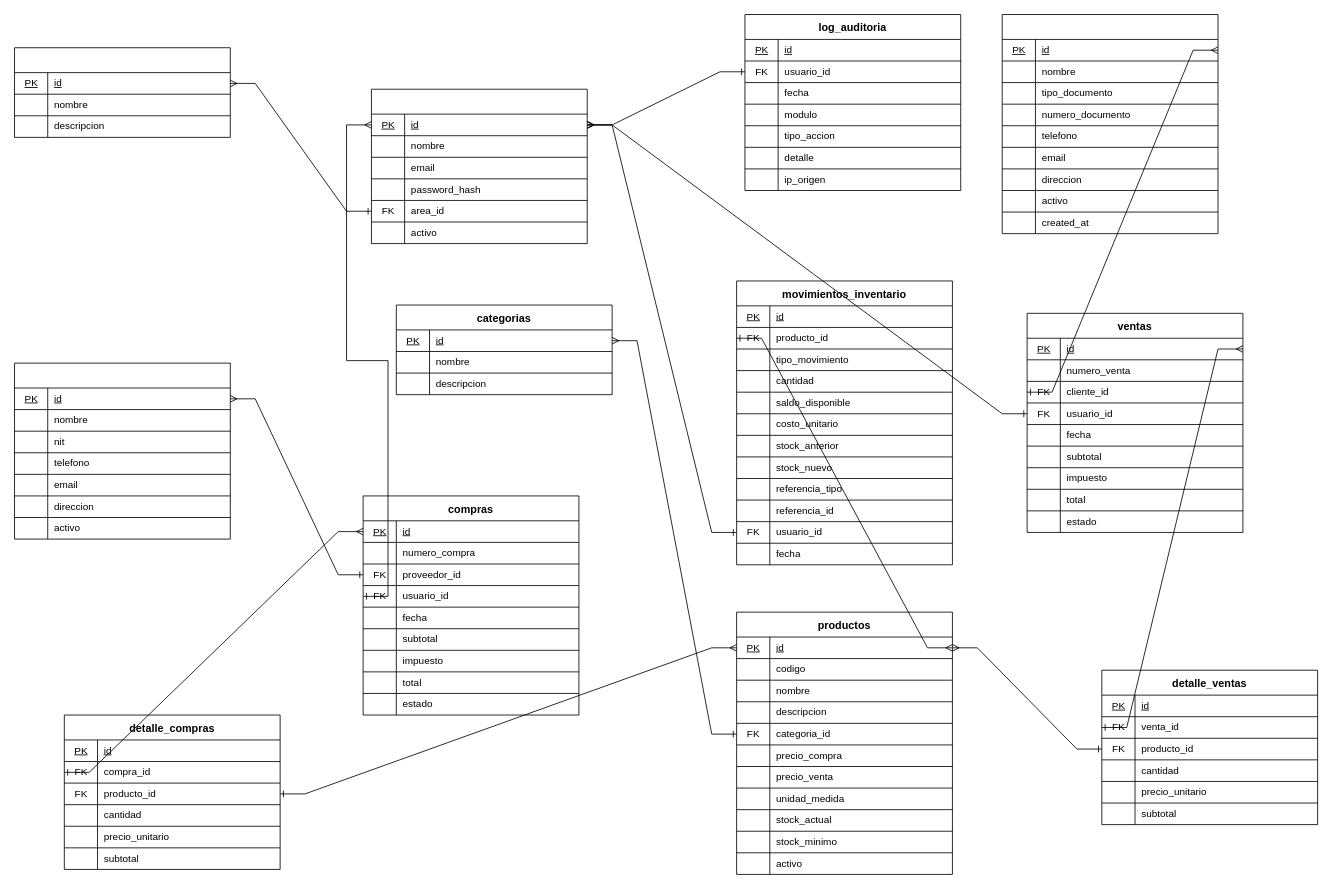
Some shapes in this 1332 by 889 pixel diagram are drawn without their labels. The shapes that lost their labels are listed below. From the top down, each one's box as (x1, y1, x2, y2) in pixels, then its label:
(14, 47, 230, 137): areas
(1001, 14, 1218, 234): clientes
(371, 88, 587, 244): usuarios
(14, 362, 230, 539): proveedores
